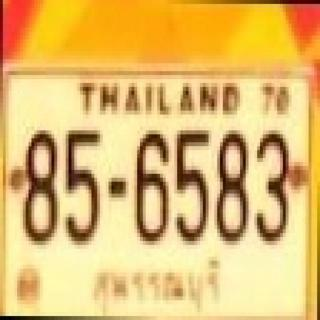N03: (252, 125, 295, 249)
N05: (172, 126, 215, 248), (62, 125, 105, 246)
N06: (130, 125, 174, 248)
N08: (18, 126, 62, 245), (214, 128, 248, 248)
P66: (86, 251, 229, 314)
